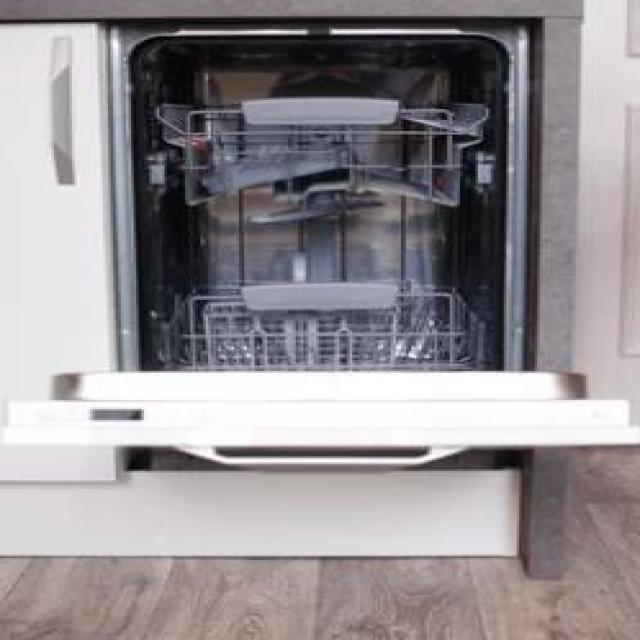dishwasher: (0, 18, 529, 469)
